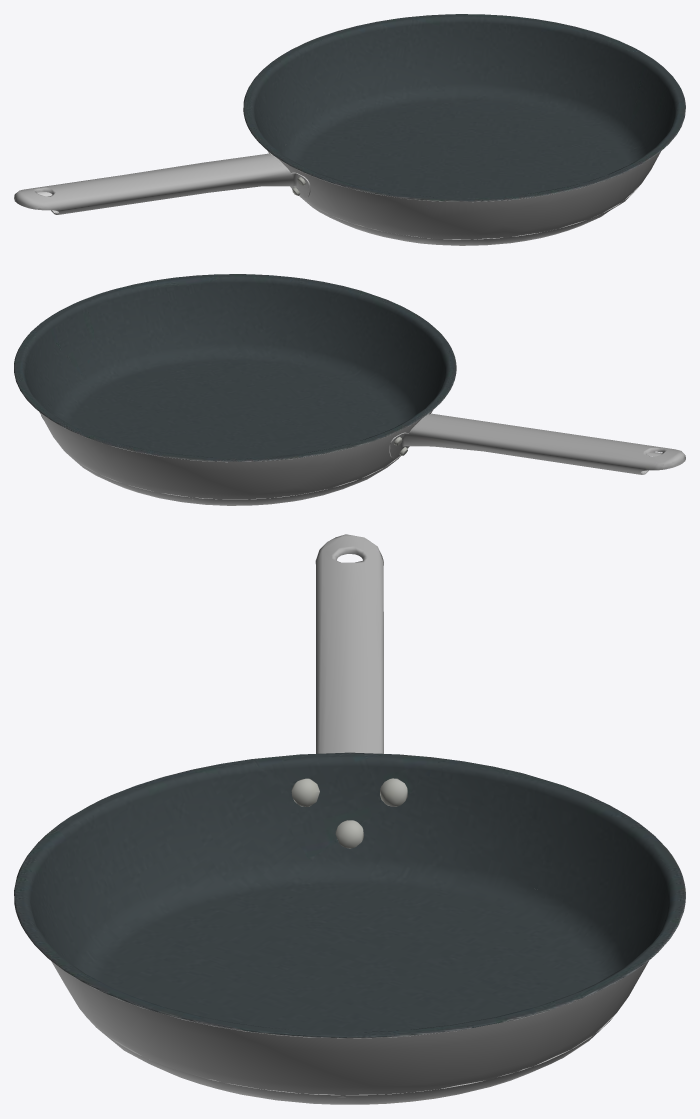
File: ikea_365_patelnia_70580703.glb
The picture shows the model from 3 angles, top to bottom: view 1: azimuth 30°, elevation 25°; view 2: azimuth 150°, elevation 25°; view 3: azimuth 270°, elevation 25°; orthographic projection. The views are drawn at different scales.
Parts seen in each view (by area): view 1: ikea_365_patelnia_70580703; view 2: ikea_365_patelnia_70580703; view 3: ikea_365_patelnia_70580703.
Part boxes in pixels (x1,y1,x2,y2): ikea_365_patelnia_70580703: [14, 14, 685, 245]; ikea_365_patelnia_70580703: [14, 274, 685, 505]; ikea_365_patelnia_70580703: [14, 534, 685, 1104].
Bounding box in the file's own units: 0.4915 × 0.0654 × 0.2947.
1 material, 1 textured.
